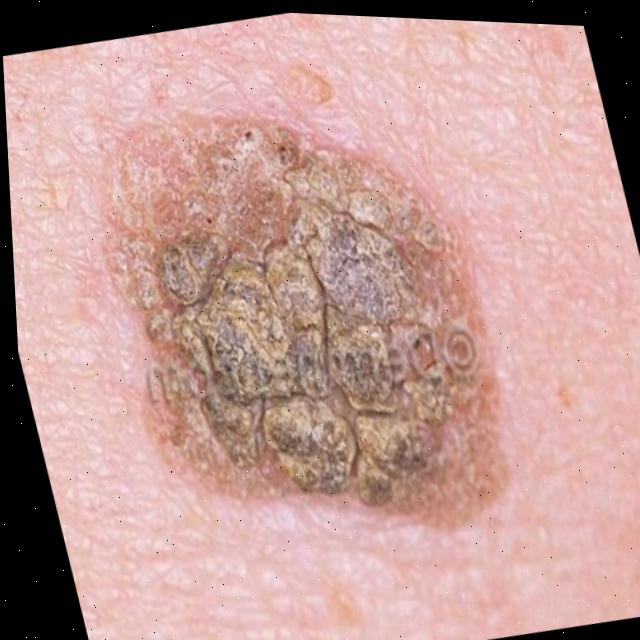Eczema: (147, 117, 472, 504)
